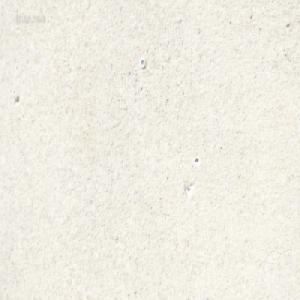Washer: (139, 57, 146, 68)
